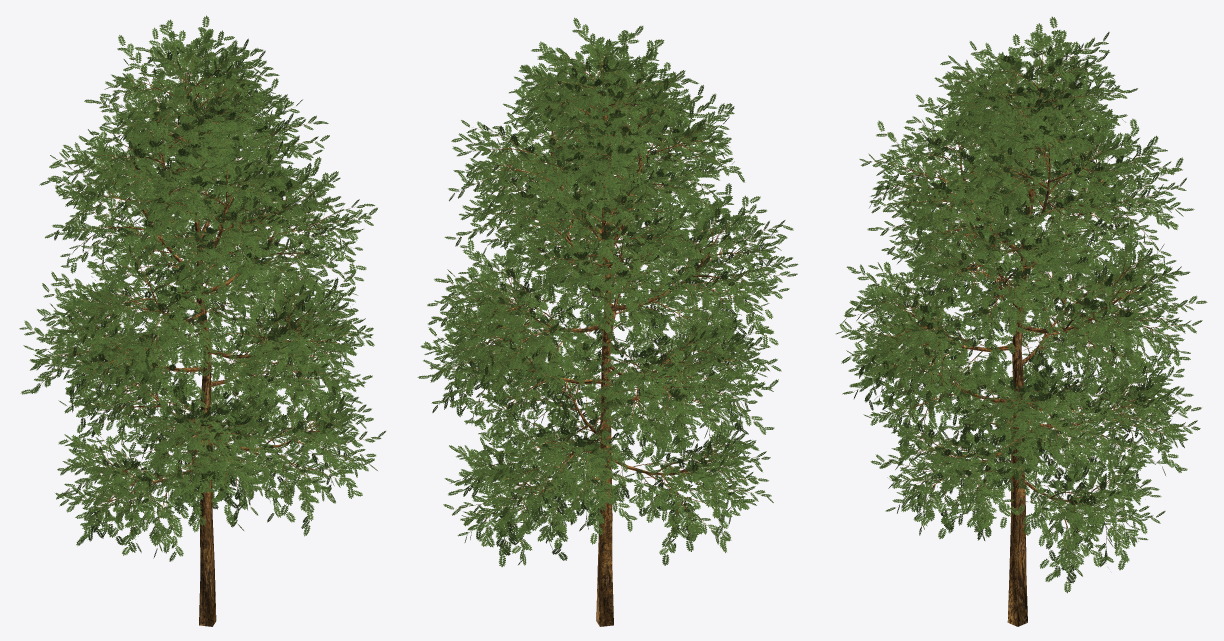
The model's file is 26 Aphanamixis polystachya (ต้นตาเสือ).fbx.
The picture shows the model from 3 angles, left to right: view 1: azimuth 30°, elevation 25°; view 2: azimuth 150°, elevation 25°; view 3: azimuth 270°, elevation 25°; orthographic projection. The views are drawn at different scales.
Visible parts, largest first — view 1: leaves, tree; view 2: leaves, tree; view 3: leaves, tree.
Part boxes in pixels (left/top/right/bottom): leaves: left=19, top=15, right=385, bottom=561; tree: left=36, top=30, right=372, bottom=626; leaves: left=417, top=17, right=798, bottom=566; tree: left=435, top=31, right=786, bottom=626; leaves: left=836, top=16, right=1207, bottom=593; tree: left=847, top=31, right=1190, bottom=626.
Size of the model in its own units: 1398 by 2405 by 1412.
2 materials, 2 textured.
